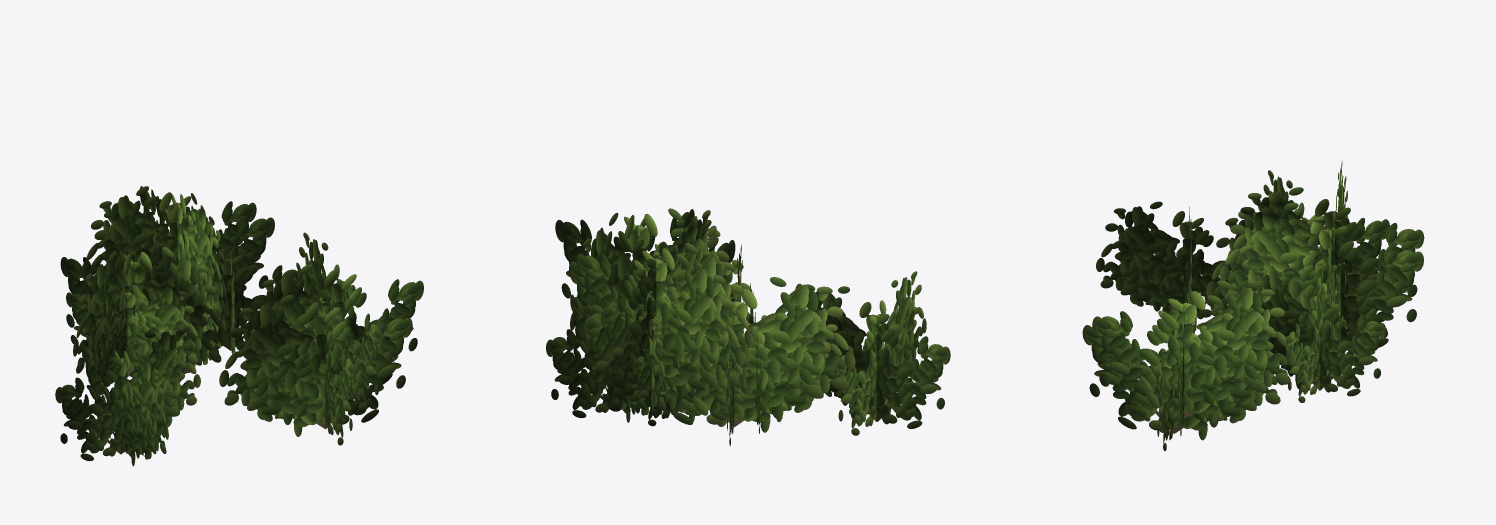
File: bush0_oak.fbx
3 views of the same model, side by side, from view 1: azimuth 30°, elevation 25°; view 2: azimuth 150°, elevation 25°; view 3: azimuth 270°, elevation 25° (orthographic). The views are drawn at different scales.
Parts seen in each view (by area): view 1: bush0_oak; view 2: bush0_oak; view 3: bush0_oak.
Boxes of the visible parts, bbox=[...] form: bush0_oak: bbox=[55, 186, 423, 466]; bush0_oak: bbox=[546, 208, 950, 445]; bush0_oak: bbox=[1082, 161, 1424, 450].
Bounding box in the file's own units: 2.21 × 1.55 × 1.89.
1 material, 1 textured.
